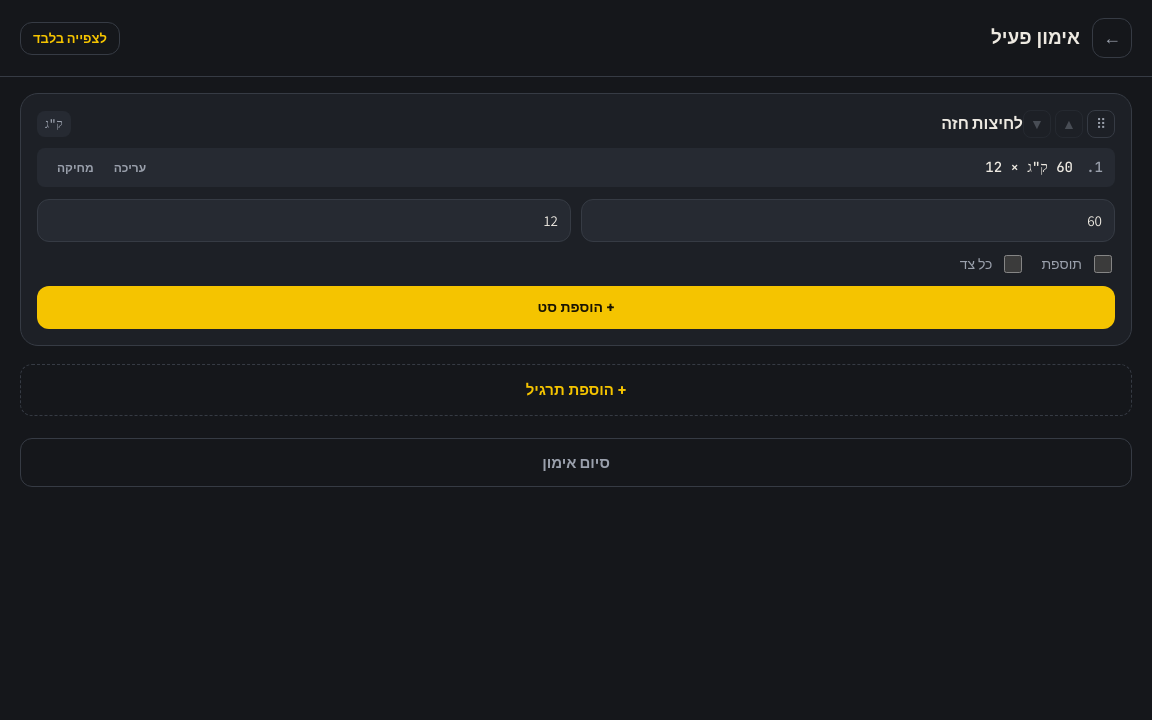
Test: WorkoutPage › edits an existing set's value through the inline edit form
Check: the text "60 ק\"ג × 12" is shown, box [985,158,1073,176]
Step 1. Click the button with aria-label "עריכת סט 1" → (130, 168), box [106,156,154,179]
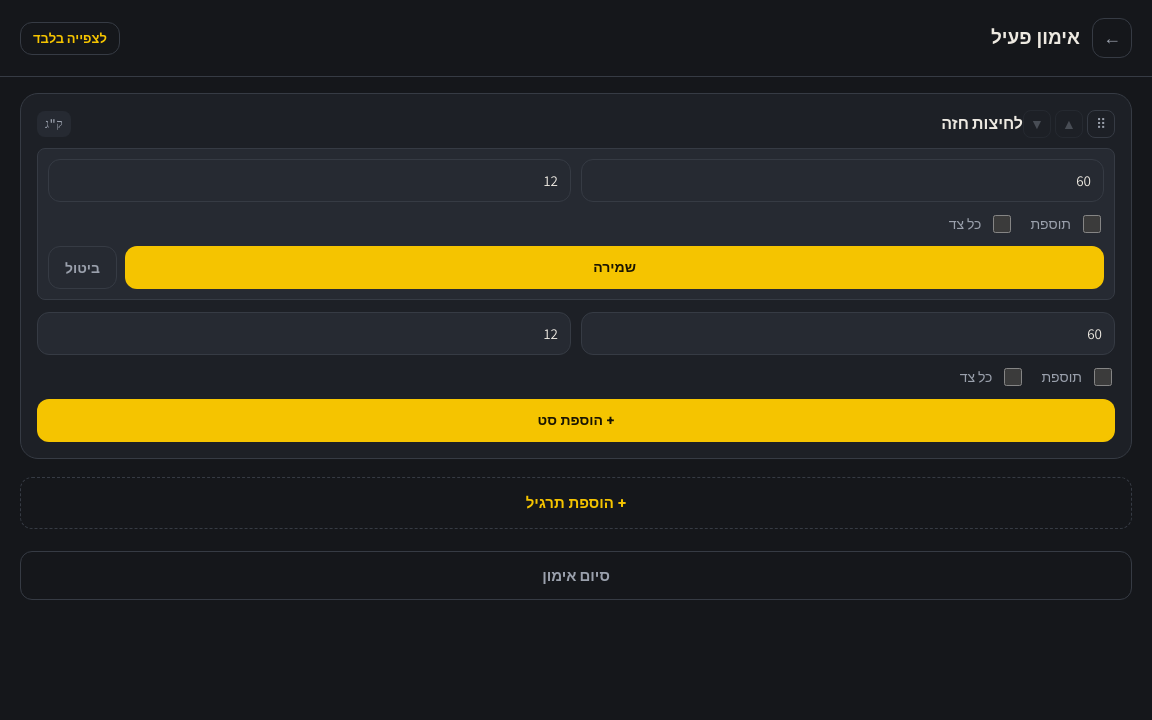
Step 2. Replace the text in the 2nd number field with placeholder "משקל" with "70" → (842, 180), box [581,159,1104,202]
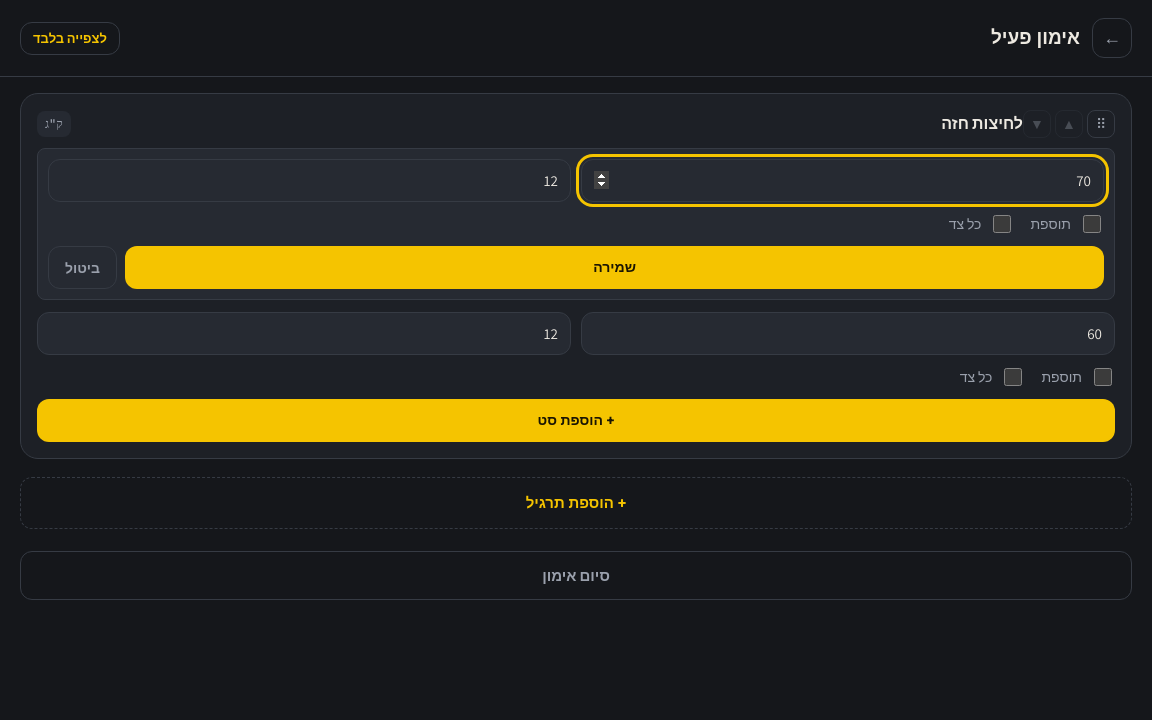
Step 3. Click the button "שמירה" → (615, 268), box [125,246,1104,289]
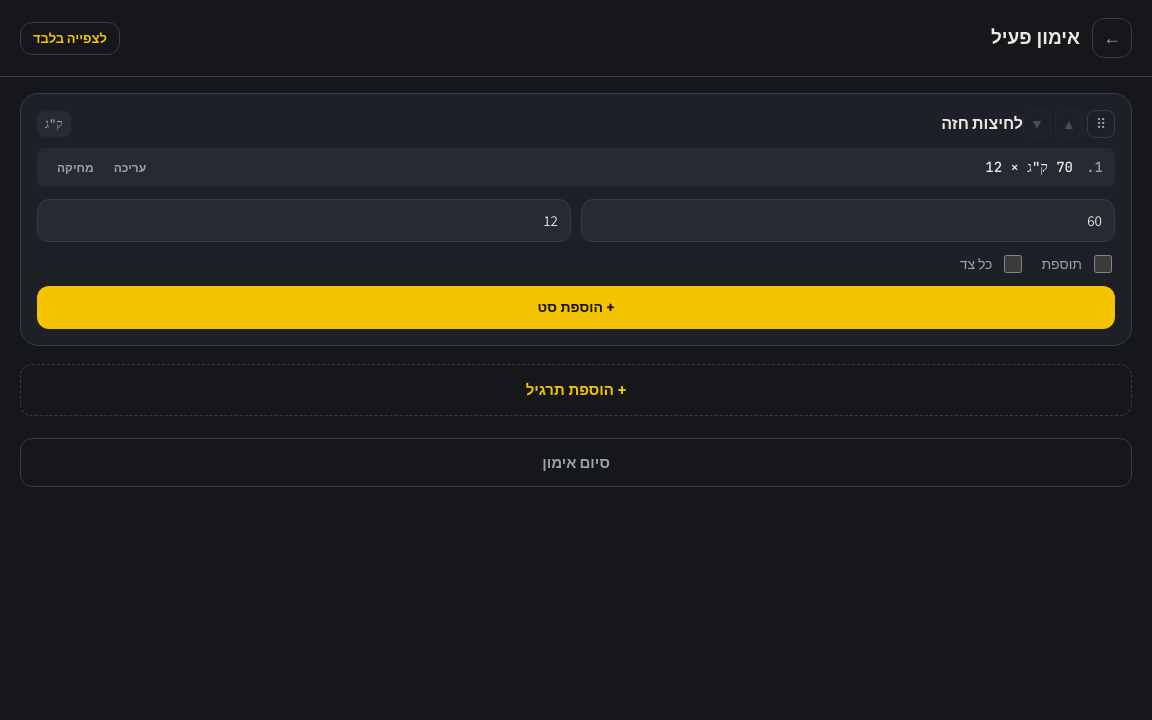
Check: the text "70 ק\"ג × 12" is shown, box [985,158,1073,176]
